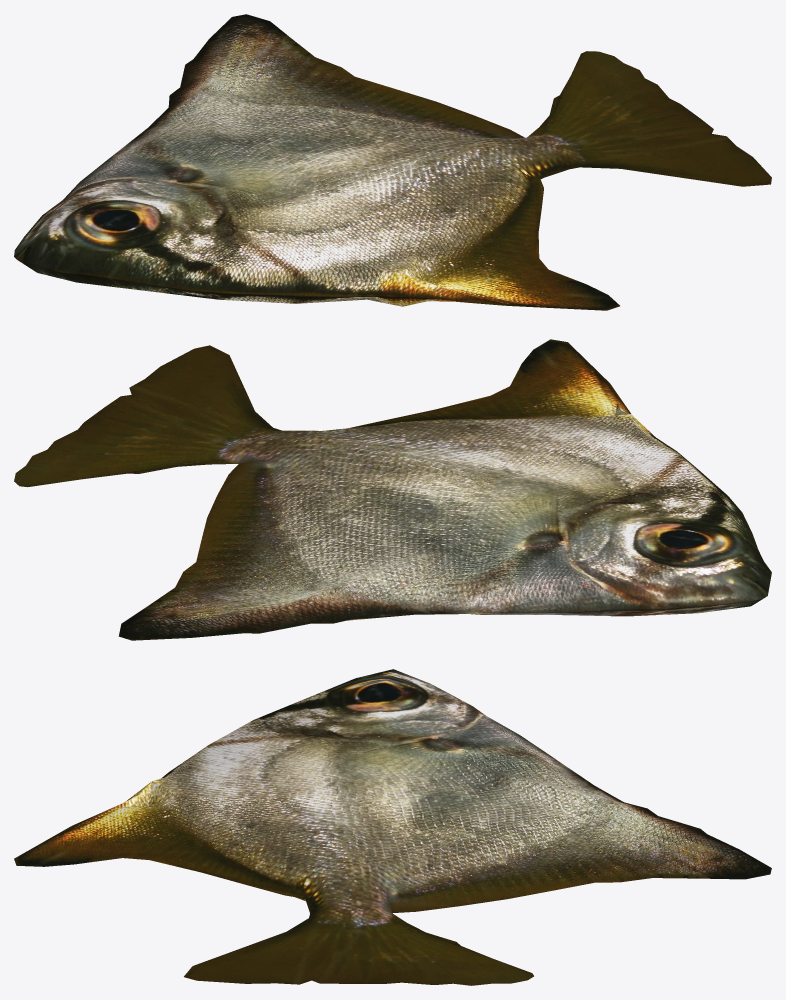
File: fish.obj
The picture shows the model from 3 angles, top to bottom: view 1: azimuth 30°, elevation 25°; view 2: azimuth 150°, elevation 25°; view 3: azimuth 270°, elevation 25°; orthographic projection. The views are drawn at different scales.
Parts seen in each view (by area): view 1: Regroup00; view 2: Regroup00; view 3: Regroup00.
Boxes of the visible parts, x1=… form: Regroup00: x1=14, y1=14, x2=771, y2=310; Regroup00: x1=14, y1=339, x2=771, y2=640; Regroup00: x1=14, y1=669, x2=771, y2=985.
Size of the model in its own units: 438 by 33.71 by 453.
Materials: 1 (1 with a texture image).
